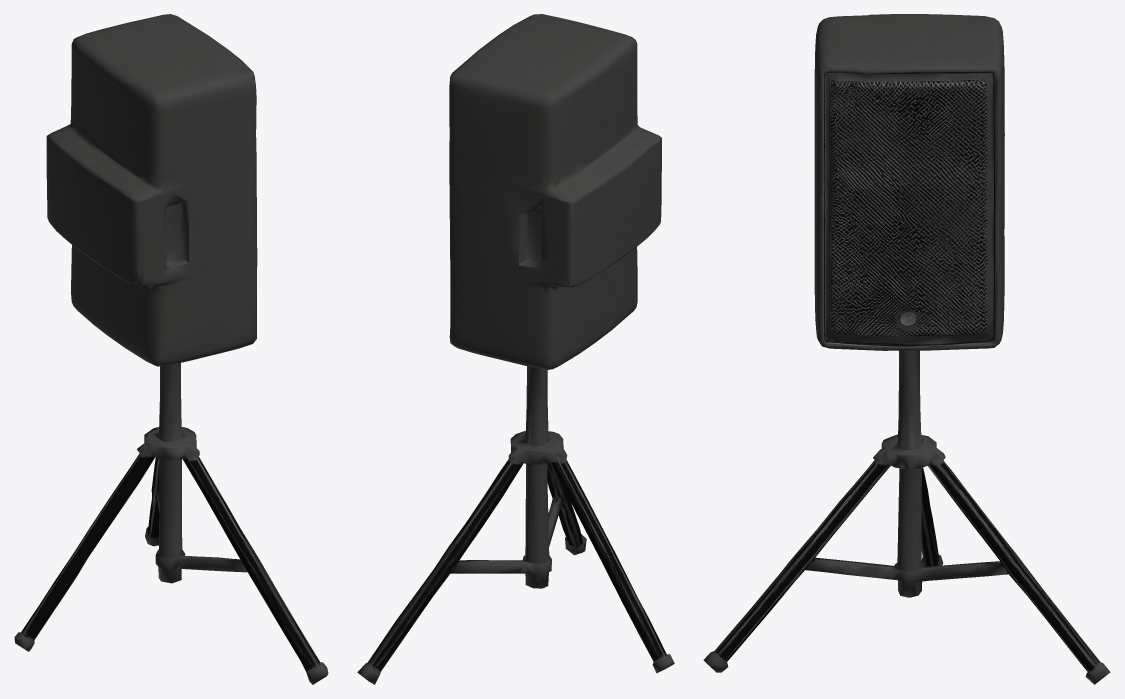
Rendered from pa_speaker_3d_model.fbx.
The picture shows the model from 3 angles, left to right: view 1: azimuth 30°, elevation 25°; view 2: azimuth 150°, elevation 25°; view 3: azimuth 270°, elevation 25°; orthographic projection. The views are drawn at different scales.
Visible parts, largest first — view 1: tripo_node_6f8ae96c; view 2: tripo_node_6f8ae96c; view 3: tripo_node_6f8ae96c.
Boxes of the visible parts, x1=… form: tripo_node_6f8ae96c: x1=14, y1=14, x2=328, y2=684; tripo_node_6f8ae96c: x1=357, y1=14, x2=674, y2=684; tripo_node_6f8ae96c: x1=703, y1=14, x2=1110, y2=684.
Bounding box in the file's own units: 0.4089 × 0.9798 × 0.5979.
